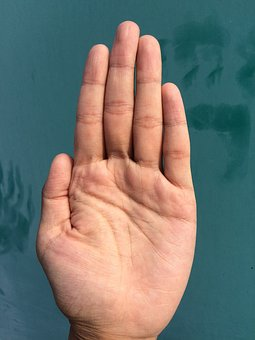palm: (59, 168, 194, 323)
